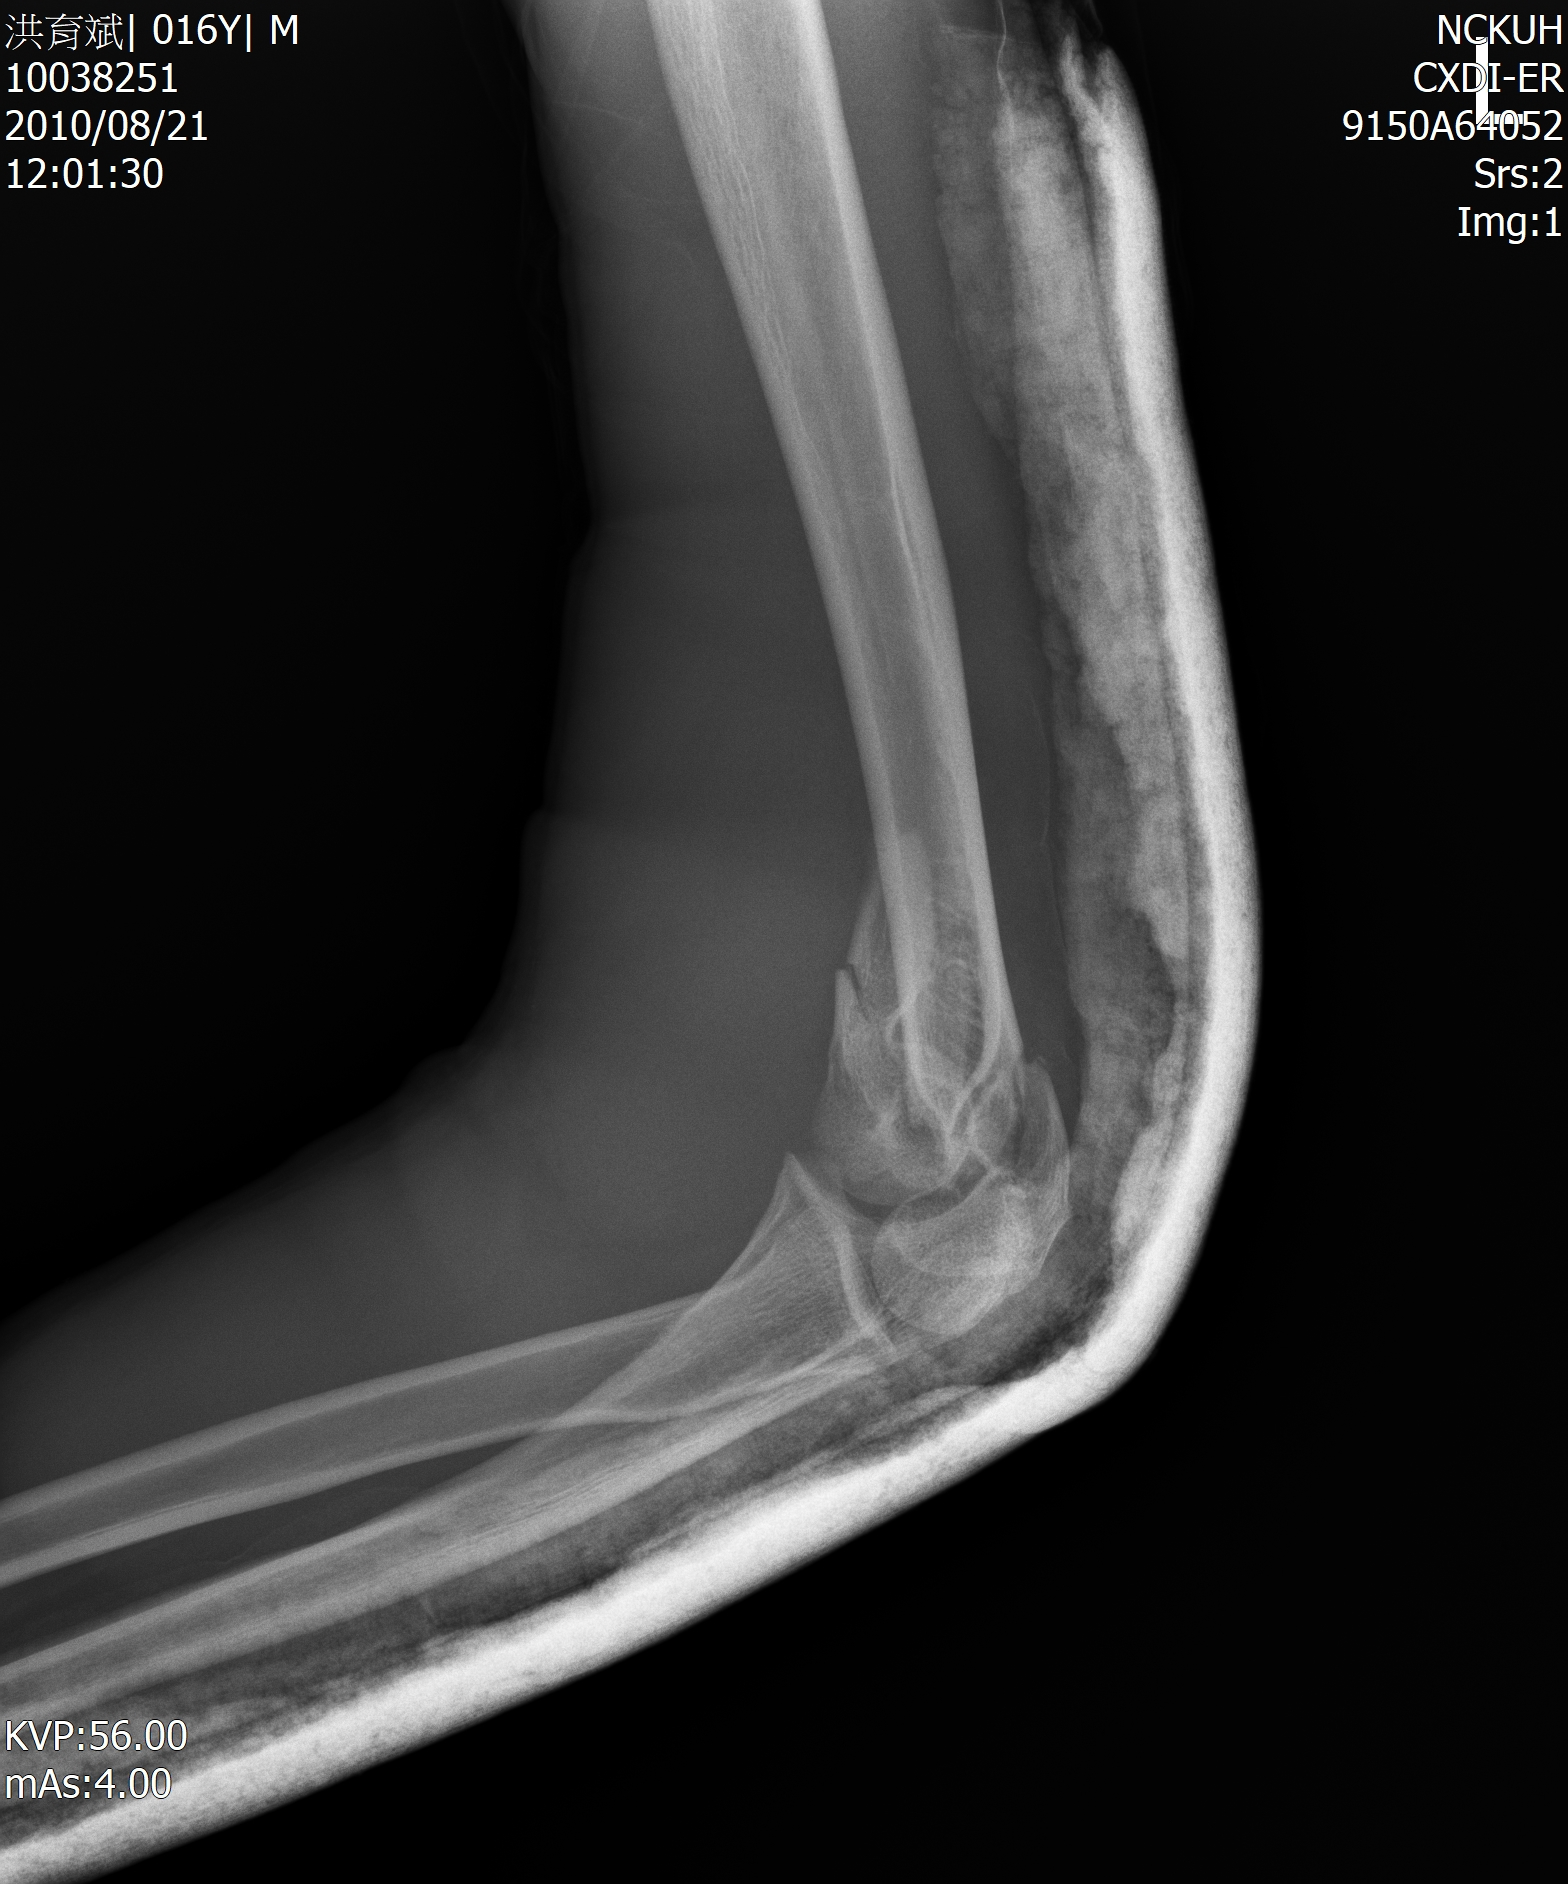SCF type 3: (509, 703, 1227, 1554)
